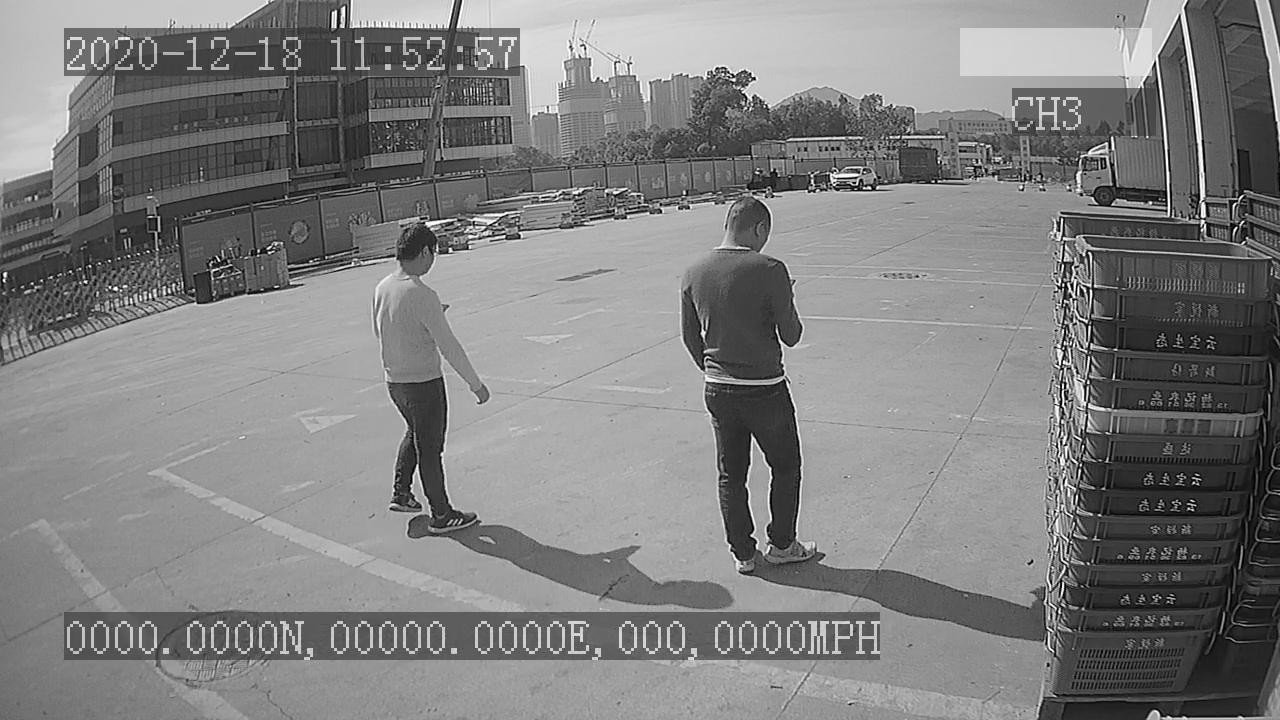person: (670, 190, 827, 577), (358, 215, 493, 533)
